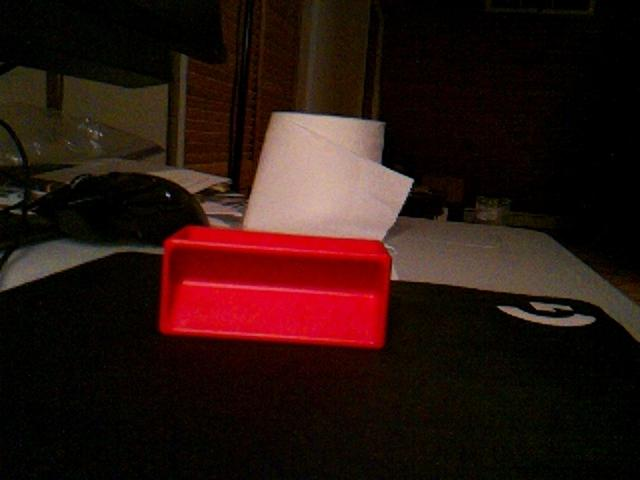red: (157, 223, 393, 351)
